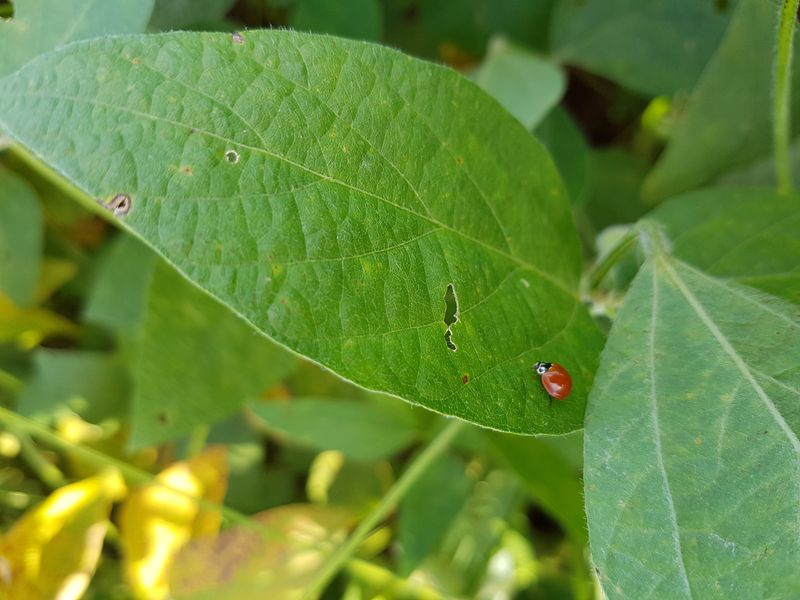Coccinellidae: (522, 345, 588, 407)
